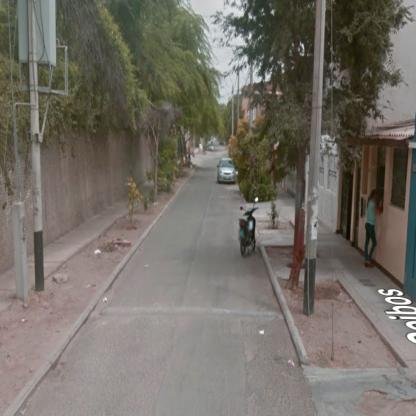Moto: (239, 198, 260, 257)
Obstaculo: (100, 306, 286, 321), (275, 358, 301, 371), (244, 341, 254, 363), (53, 364, 67, 379)
Peaton: (366, 191, 383, 269)
Vehiculo: (218, 159, 240, 186)
